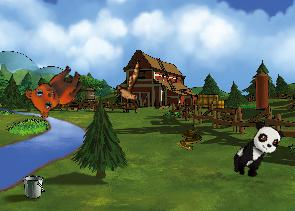bear: (20, 54, 88, 124)
eagle: (106, 59, 153, 114)
panda: (227, 117, 286, 184)
